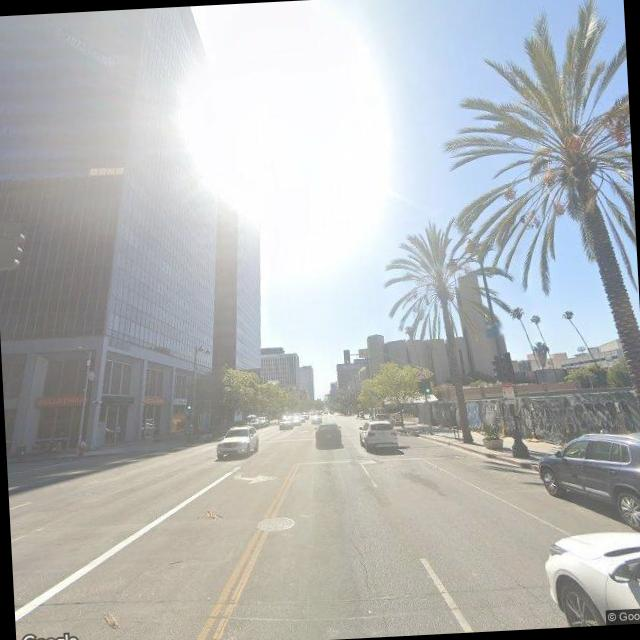pothole: (345, 528, 373, 595)
